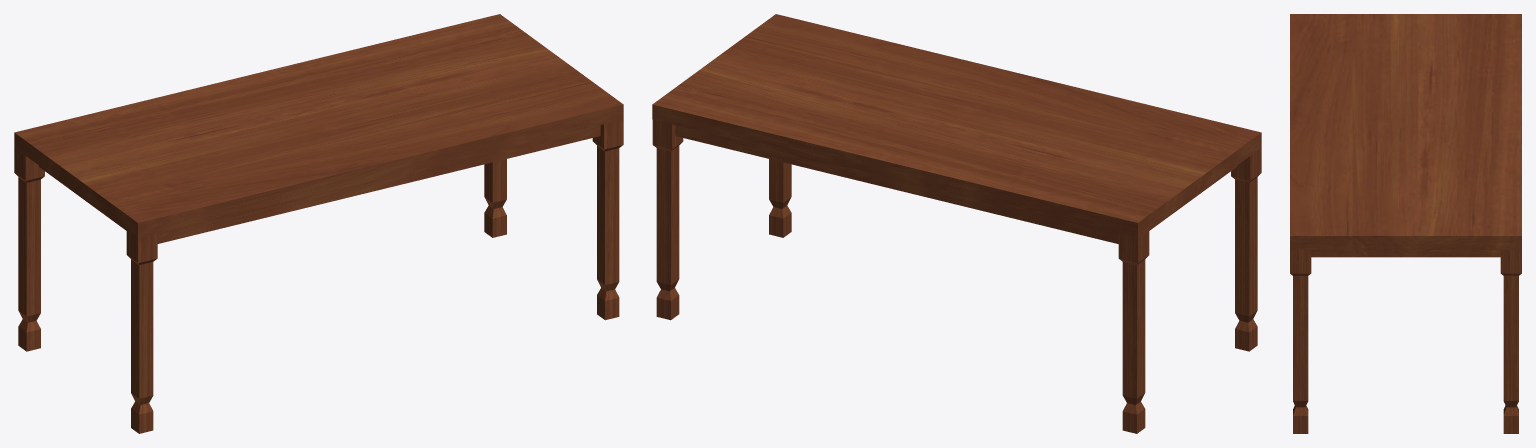
The model's file is Стол 1.glb.
The picture shows the model from 3 angles, left to right: view 1: azimuth 30°, elevation 25°; view 2: azimuth 150°, elevation 25°; view 3: azimuth 270°, elevation 25°; orthographic projection. The views are drawn at different scales.
Parts seen in each view (by area): view 1: Cube.001, Cube.003, Cube; view 2: Cube.001, Cube.003, Cube; view 3: Cube.001, Cube.003, Cube.
Part boxes in pixels (x1=…): Cube.001: x1=14, y1=14, x2=623, y2=237; Cube.003: x1=14, y1=119, x2=623, y2=433; Cube: x1=39, y1=125, x2=600, y2=243; Cube.001: x1=652, y1=14, x2=1261, y2=237; Cube.003: x1=652, y1=119, x2=1261, y2=433; Cube: x1=675, y1=125, x2=1237, y2=243; Cube.001: x1=1290, y1=14, x2=1521, y2=249; Cube.003: x1=1290, y1=250, x2=1521, y2=433; Cube: x1=1311, y1=250, x2=1500, y2=257.
Size of the model in its own units: 3.4 by 1.42 by 1.5.
3 materials, 3 textured.
